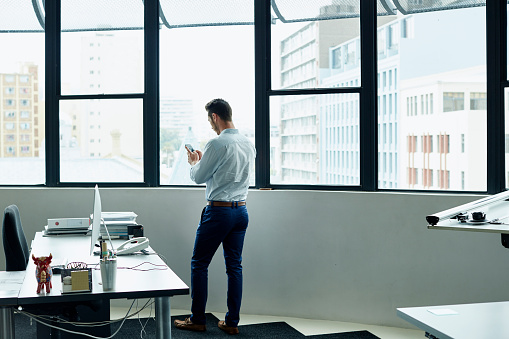em pe: (173, 108, 247, 335)
